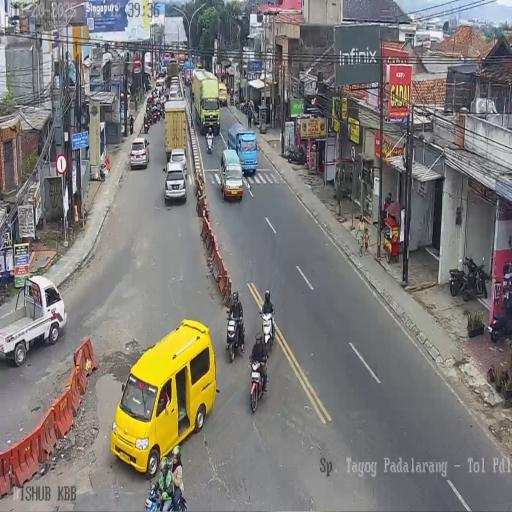car: (111, 320, 216, 475), (220, 148, 244, 202), (164, 162, 188, 204), (130, 138, 148, 170), (218, 82, 227, 106), (156, 75, 166, 92), (170, 77, 178, 97)
motorcycle: (450, 253, 488, 301), (490, 287, 512, 343), (248, 351, 268, 412), (226, 311, 245, 362), (260, 309, 276, 358), (286, 143, 306, 165), (206, 131, 213, 154), (241, 101, 249, 115), (156, 105, 162, 121), (144, 78, 150, 92), (144, 118, 149, 134), (160, 102, 165, 117), (230, 89, 234, 105)
truck: (192, 68, 220, 136), (164, 98, 186, 163), (184, 60, 194, 84), (144, 51, 153, 75)
